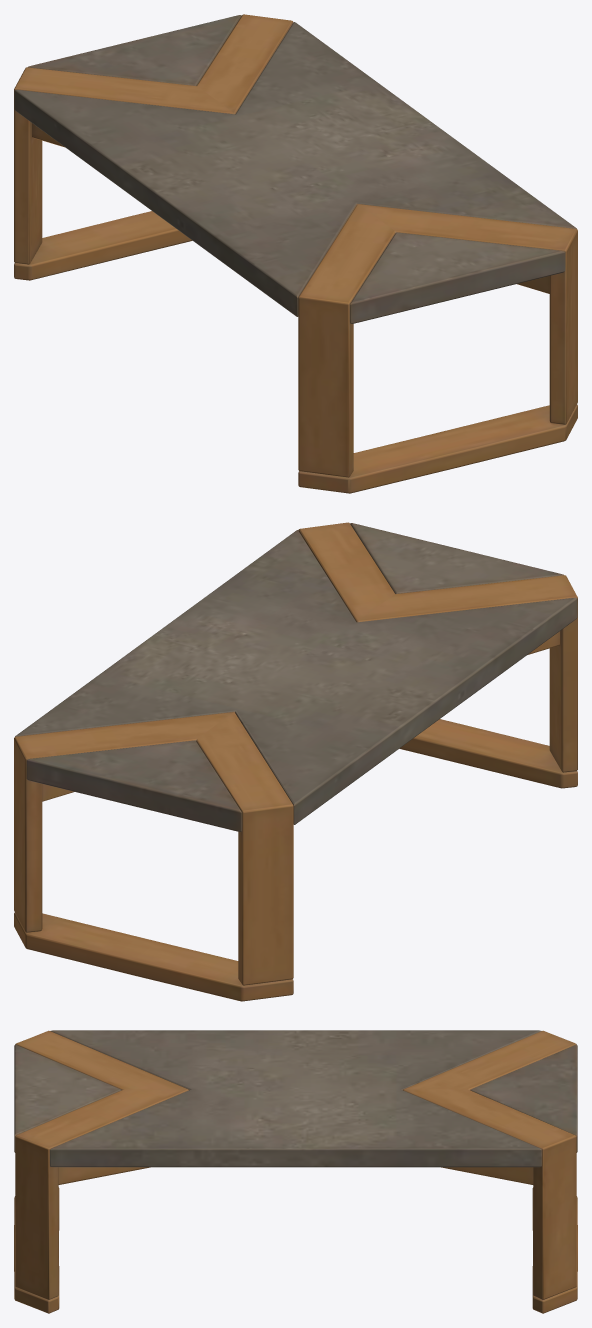
Rendered from modern_coffee_table_01.glb.
3 views of the same model, one above another, from view 1: azimuth 30°, elevation 25°; view 2: azimuth 150°, elevation 25°; view 3: azimuth 270°, elevation 25° (orthographic). The views are drawn at different scales.
Visible parts, largest first — view 1: modern_coffee_table_01; view 2: modern_coffee_table_01; view 3: modern_coffee_table_01.
Boxes of the visible parts, x1,y1,x2,y2 form: modern_coffee_table_01: (14, 14, 577, 493); modern_coffee_table_01: (14, 522, 577, 1001); modern_coffee_table_01: (14, 1030, 577, 1313).
Size of the model in its own units: 0.5999 by 0.39 by 1.2.
1 material, 1 textured.
